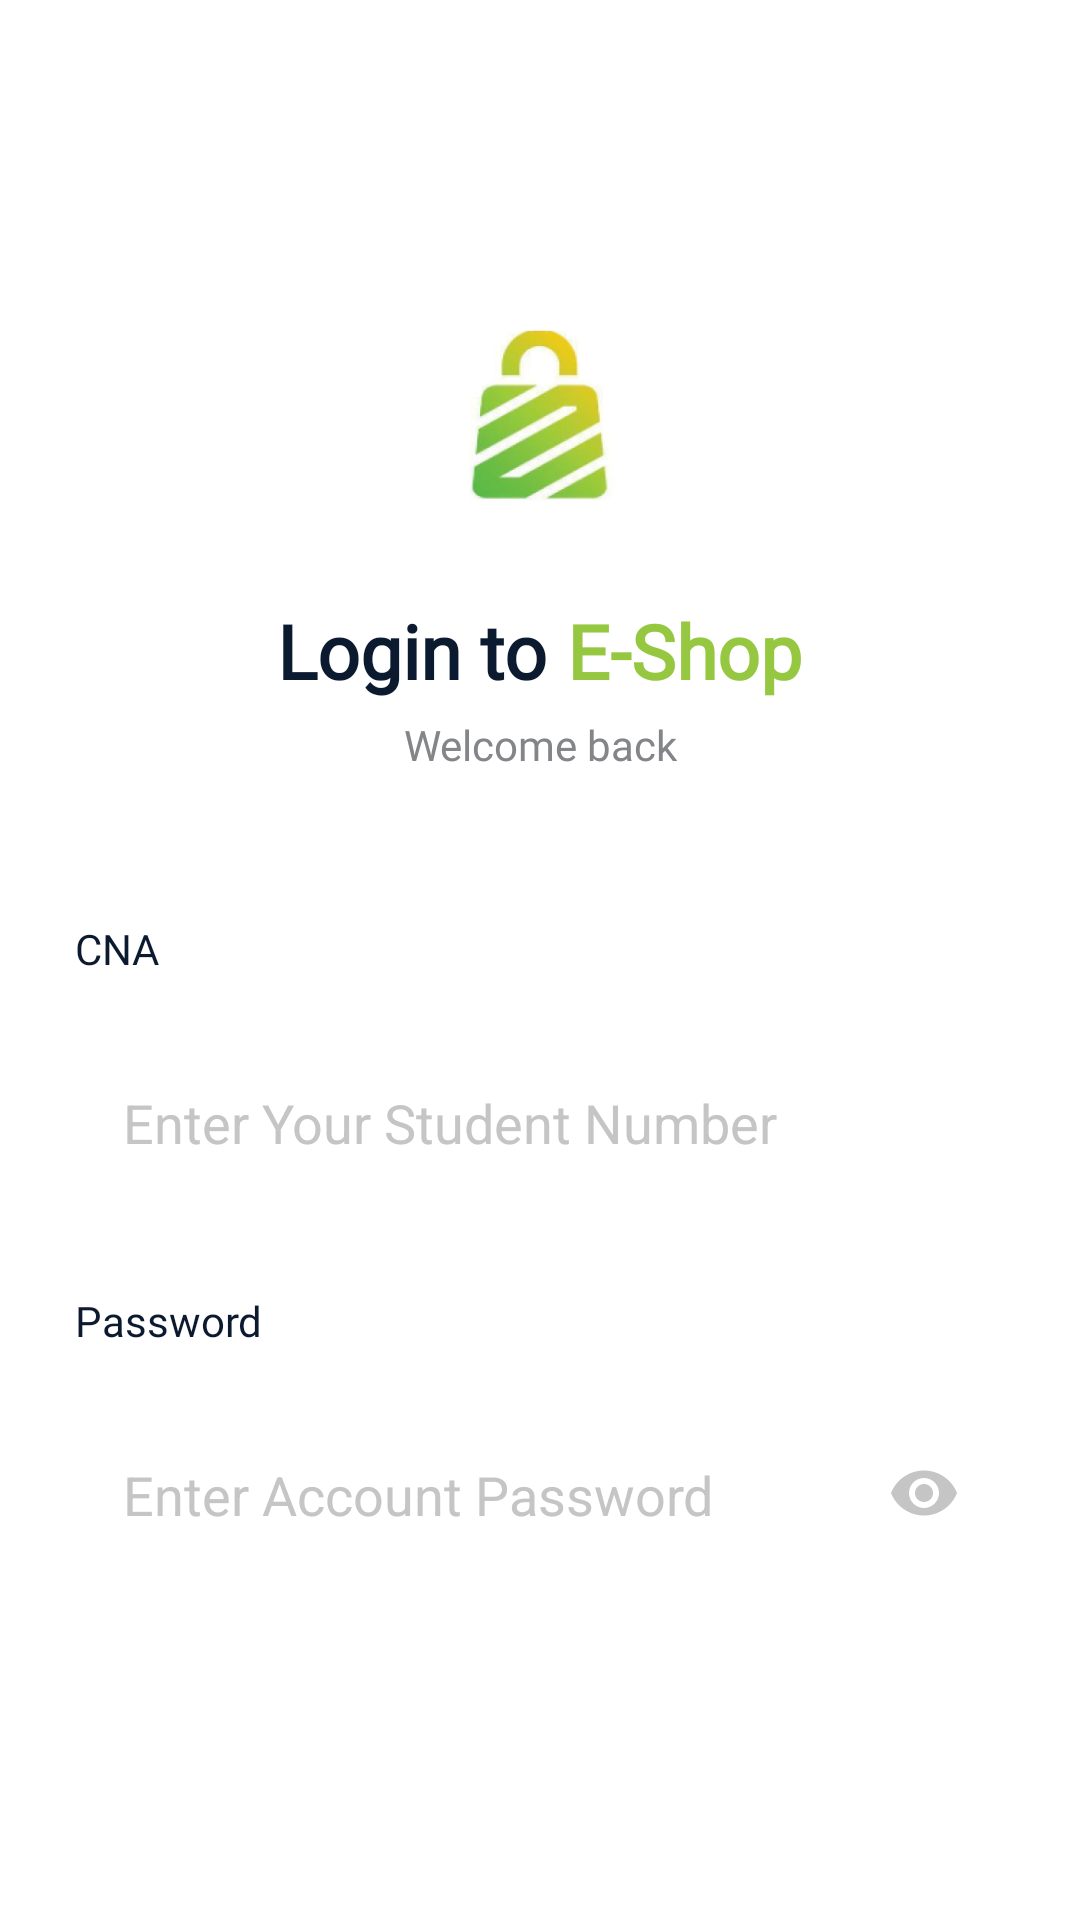

Locate icon controls on the screen. Image size 1080px x 1920px, boxes as [x1=x1, y1=y1, x2=x2, y2=y2].
appicon: [x1=471, y1=330, x2=608, y2=499]
